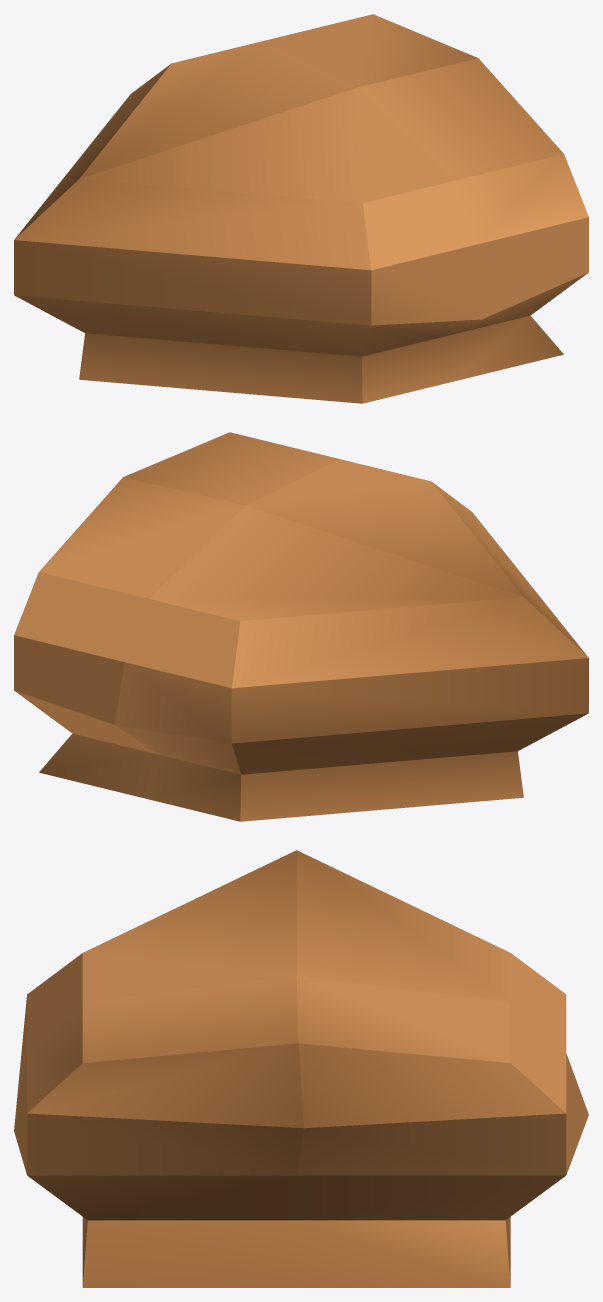
The model's file is Rock_Desert09.fbx.
3 renders of one model, top to bottom at view 1: azimuth 30°, elevation 25°; view 2: azimuth 150°, elevation 25°; view 3: azimuth 270°, elevation 25°, orthographic. The views are drawn at different scales.
Parts seen in each view (by area): view 1: Rock_Desert09_LOD0; view 2: Rock_Desert09_LOD0; view 3: Rock_Desert09_LOD0.
Part boxes in pixels (<box>): Rock_Desert09_LOD0: <box>14,14,588,403</box>; Rock_Desert09_LOD0: <box>14,432,588,821</box>; Rock_Desert09_LOD0: <box>14,850,588,1287</box>.
Size of what is drawn, in the model's own units: 73.35 by 32.38 by 67.15.
